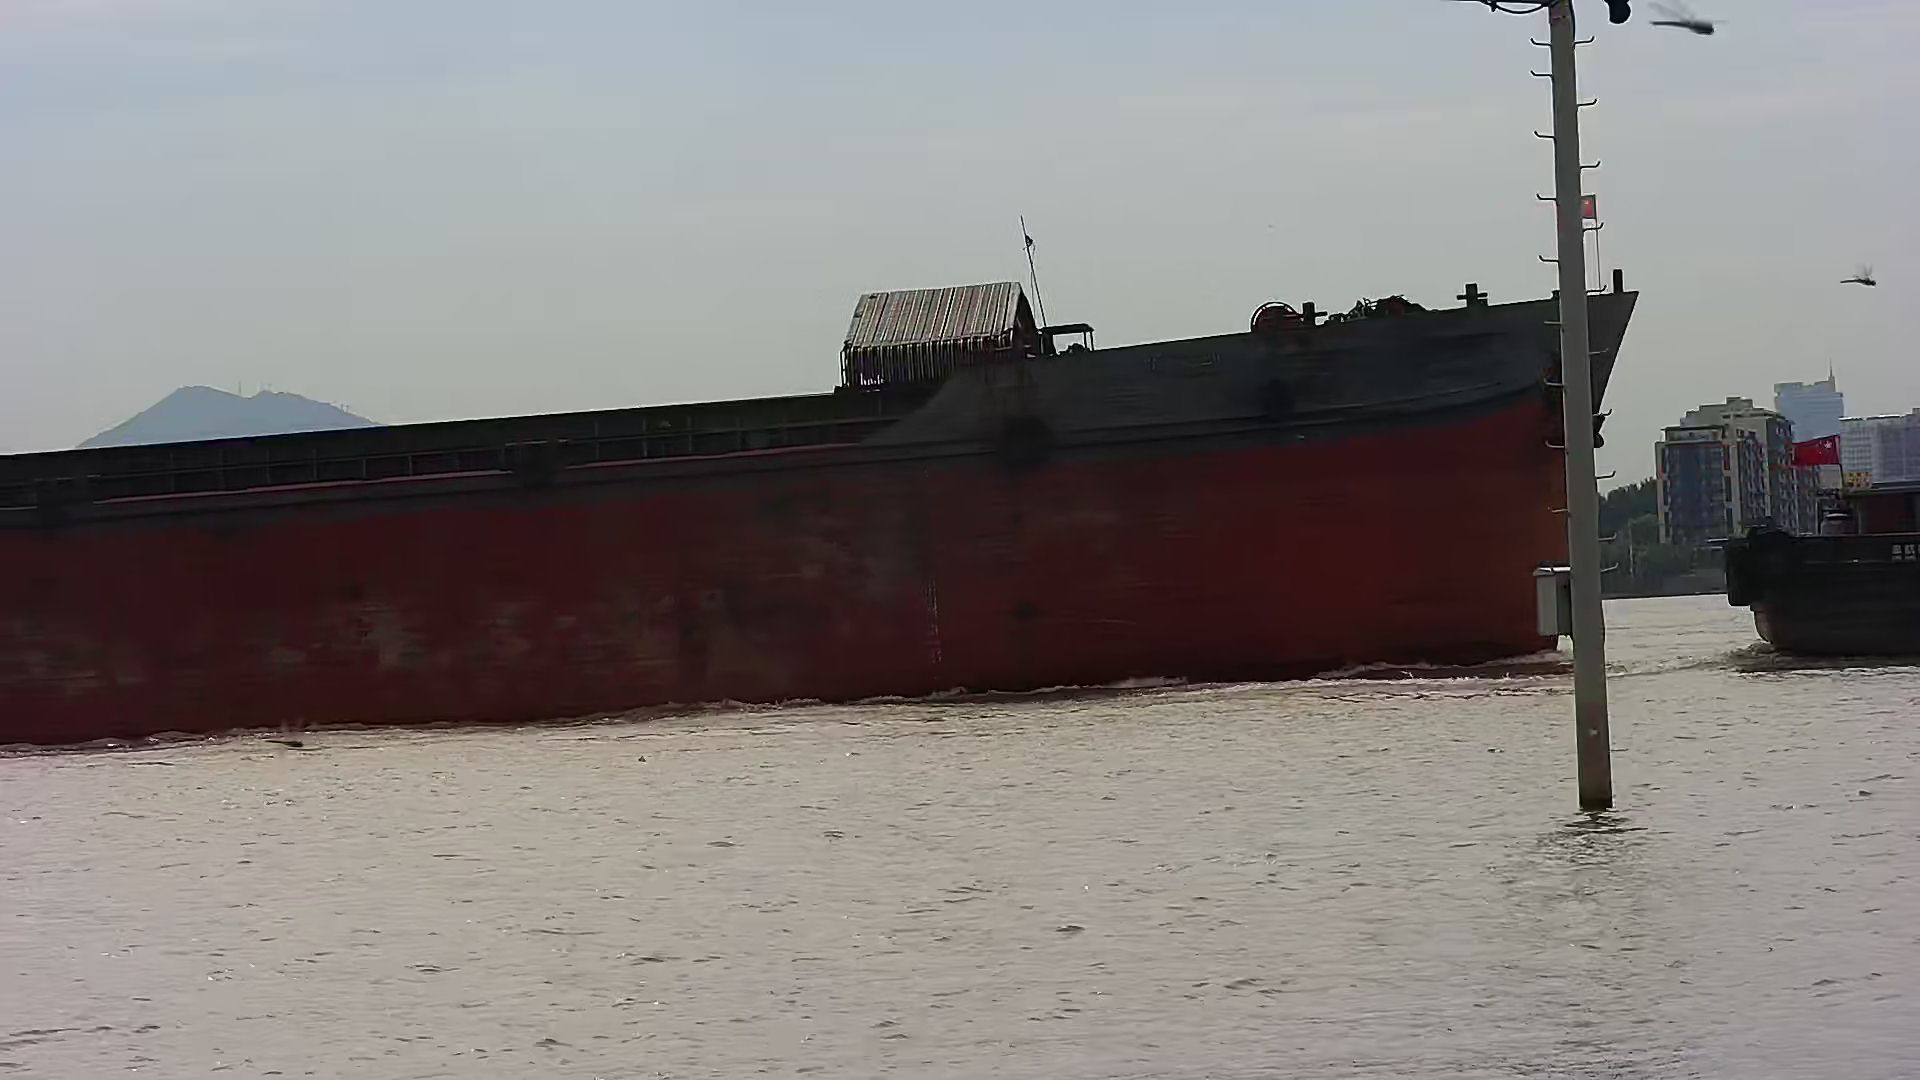mast: (1480, 3, 1633, 812)
ship: (1, 255, 1640, 746), (1721, 431, 1920, 667)
